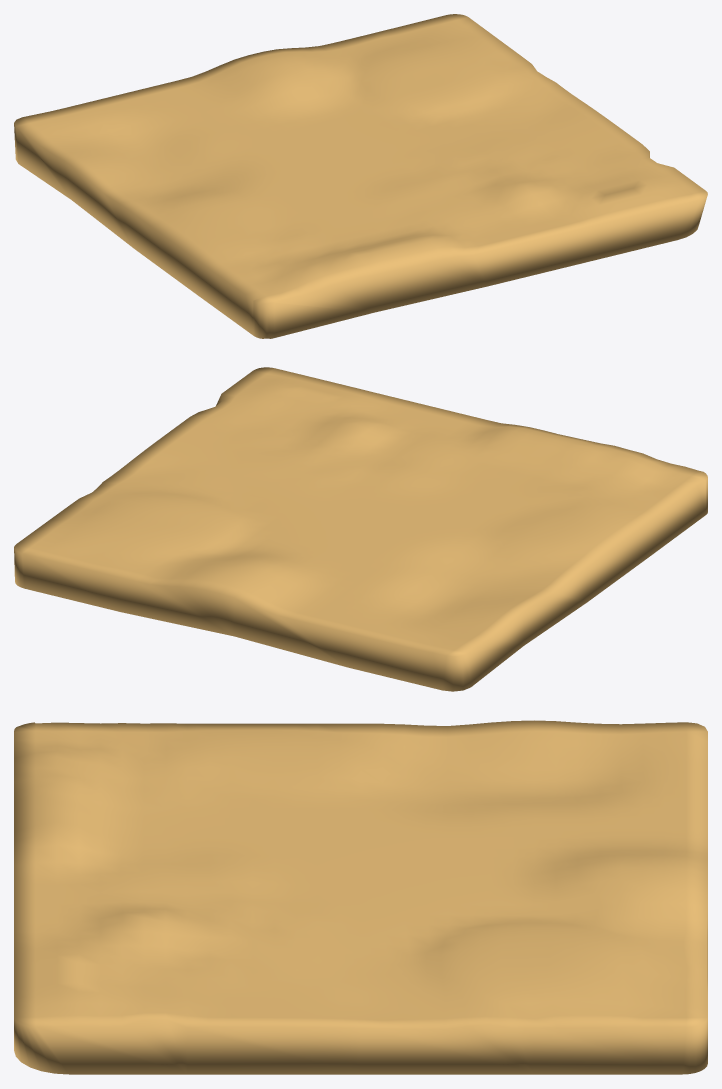
The model's file is pustinjska podloga.fbx.
The picture shows the model from 3 angles, top to bottom: view 1: azimuth 30°, elevation 25°; view 2: azimuth 150°, elevation 25°; view 3: azimuth 270°, elevation 25°; orthographic projection. The views are drawn at different scales.
Parts seen in each view (by area): view 1: Куб.001; view 2: Куб.001; view 3: Куб.001.
Boxes of the visible parts, x1=… form: Куб.001: x1=14, y1=14, x2=707, y2=338; Куб.001: x1=14, y1=367, x2=707, y2=691; Куб.001: x1=14, y1=720, x2=707, y2=1074.
Size of the model in its own units: 1996 by 199 by 1930.
